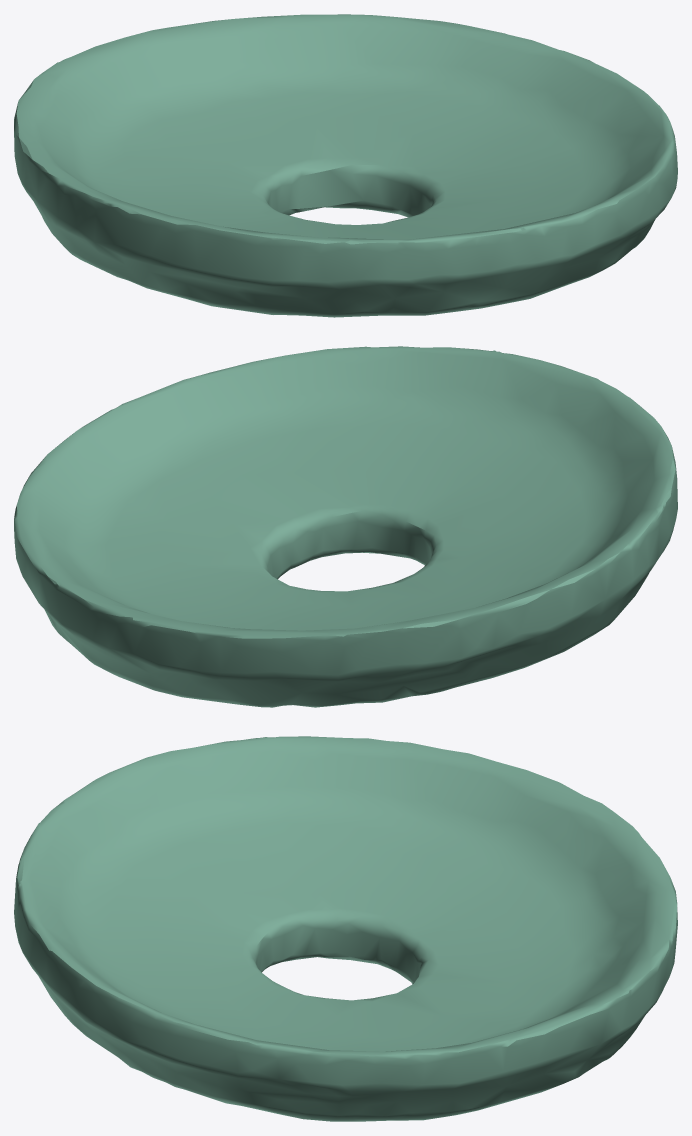
3 renders of one model, top to bottom at view 1: azimuth 30°, elevation 25°; view 2: azimuth 150°, elevation 25°; view 3: azimuth 270°, elevation 25°, orthographic.
Visible parts, largest first — view 1: 右侧虹膜; view 2: 右侧虹膜; view 3: 右侧虹膜.
Boxes of the visible parts, box(x1,y1,x2,y2) form: 右侧虹膜: box(14, 14, 677, 317); 右侧虹膜: box(14, 346, 677, 707); 右侧虹膜: box(14, 736, 677, 1121).
Bounding box in the file's own units: 0.0189 × 0.00475 × 0.019.
